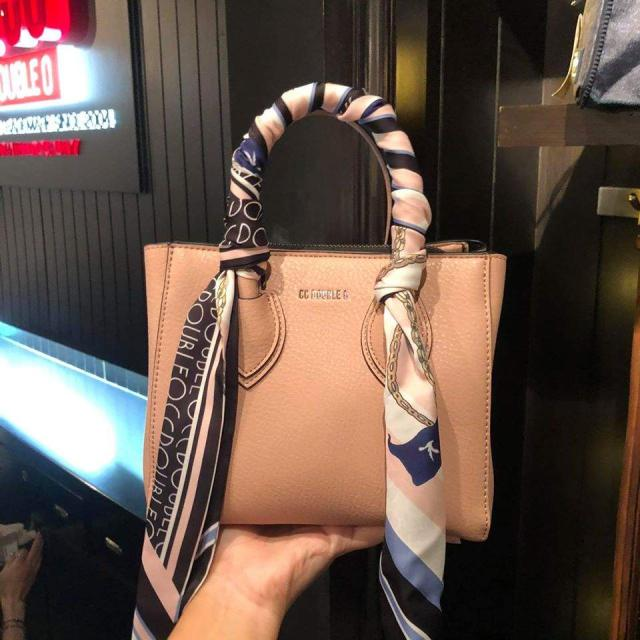Handbag: (124, 207, 515, 547)
